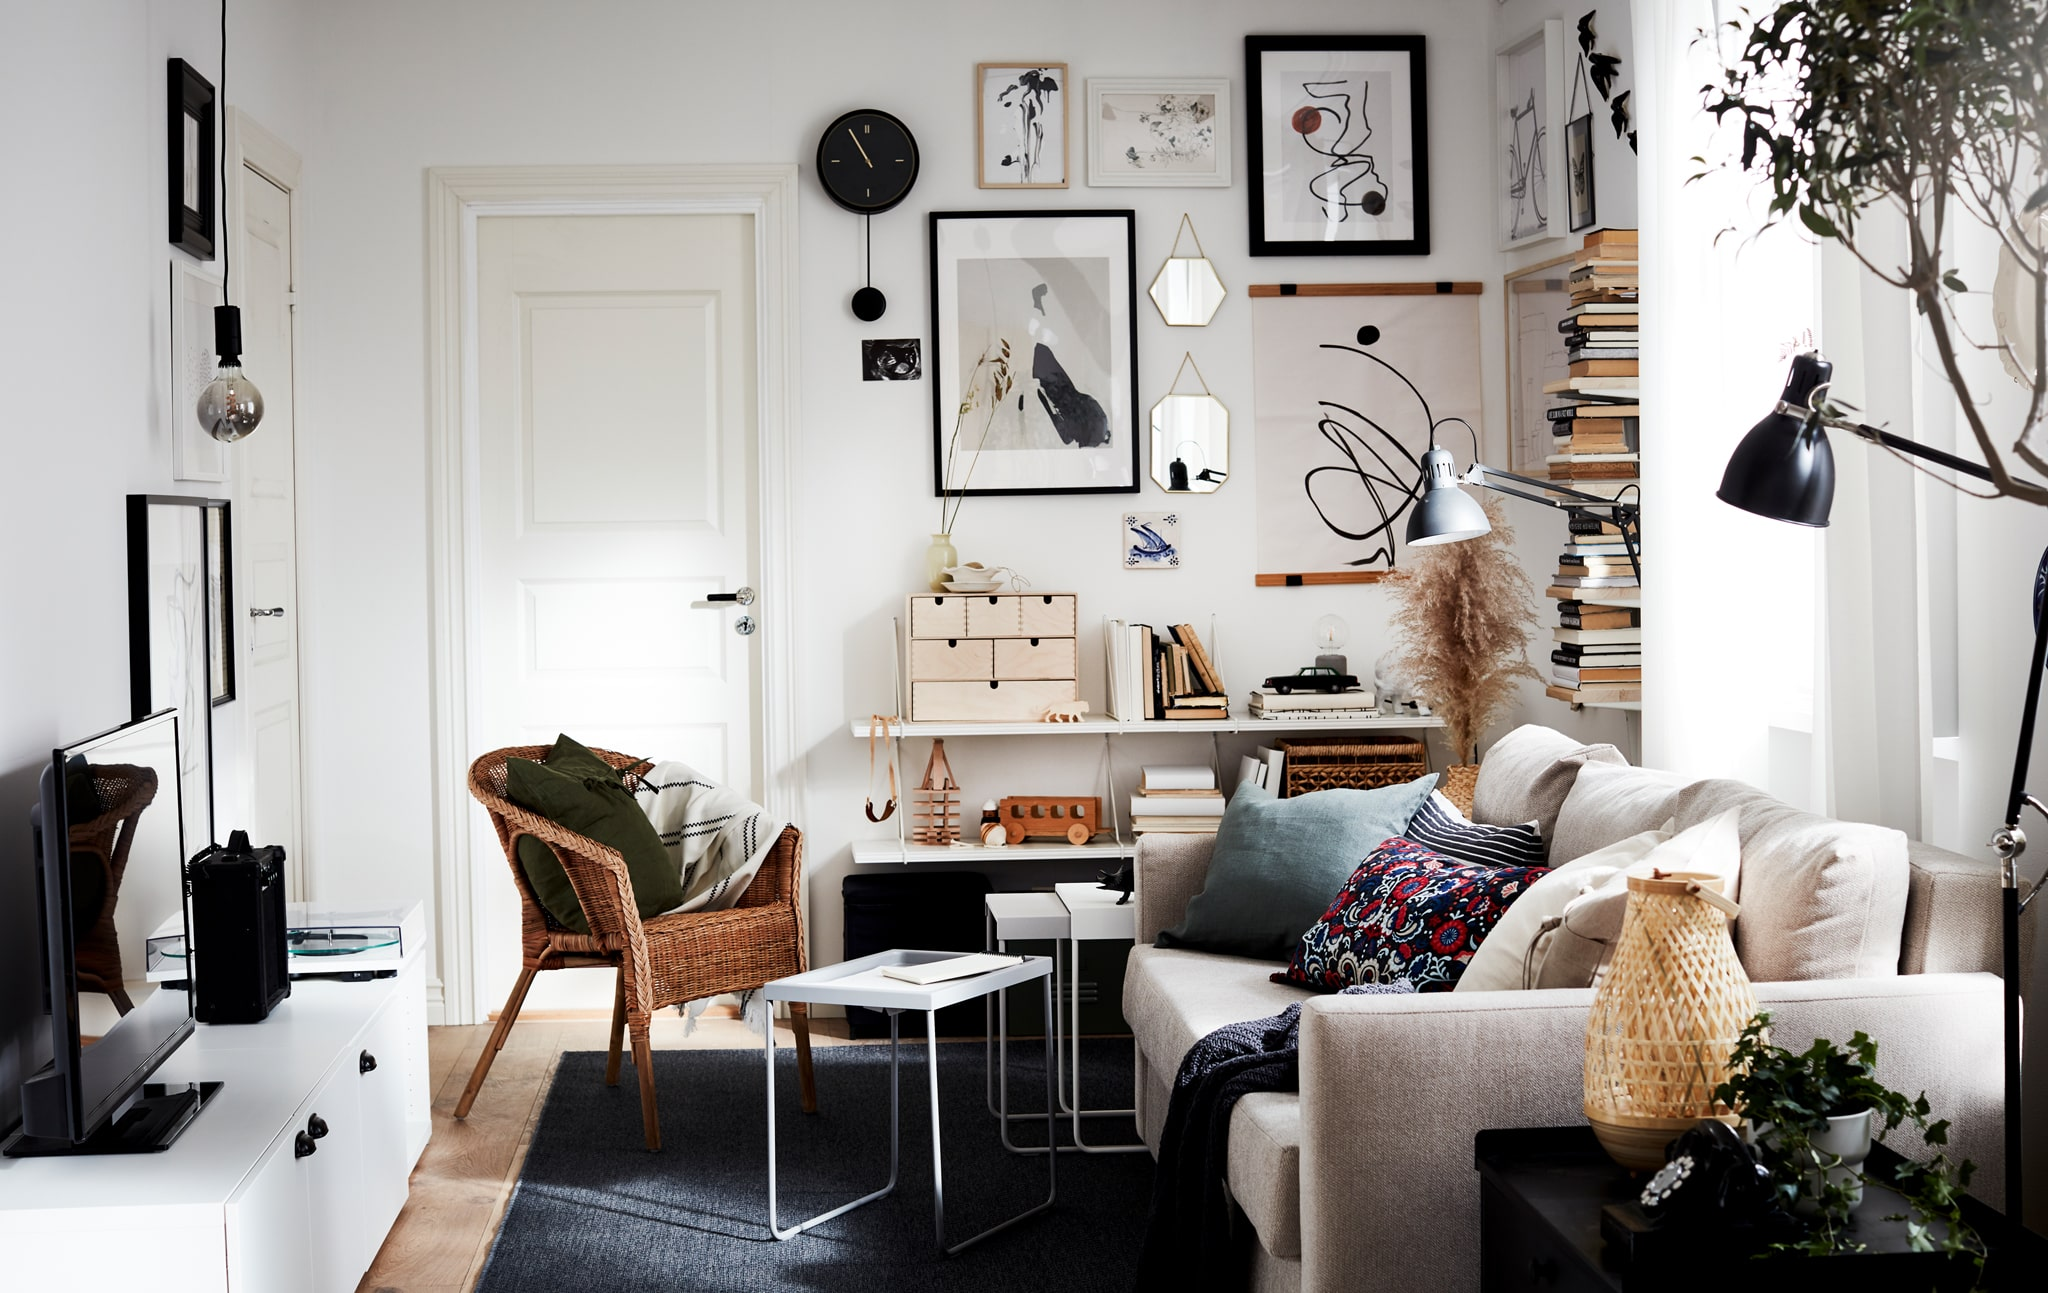bantal: (1198, 787, 1394, 941), (1317, 843, 1481, 992)
buku: (1551, 216, 1638, 468), (1556, 506, 1644, 699), (1123, 612, 1227, 728), (1128, 761, 1215, 834), (1250, 681, 1384, 721)
jam dinding: (810, 100, 920, 226)
kursi: (451, 734, 825, 1105)
lampu: (1402, 448, 1656, 746), (1694, 344, 1896, 542)
lukisan: (923, 206, 1145, 498), (1242, 24, 1434, 270), (1080, 69, 1238, 192), (973, 54, 1075, 195)
meja: (751, 943, 1072, 1257)
sova: (1122, 733, 2009, 1128)
tanaman: (1692, 1, 2048, 349), (1716, 1026, 1950, 1266)
tv: (28, 703, 206, 1149)
